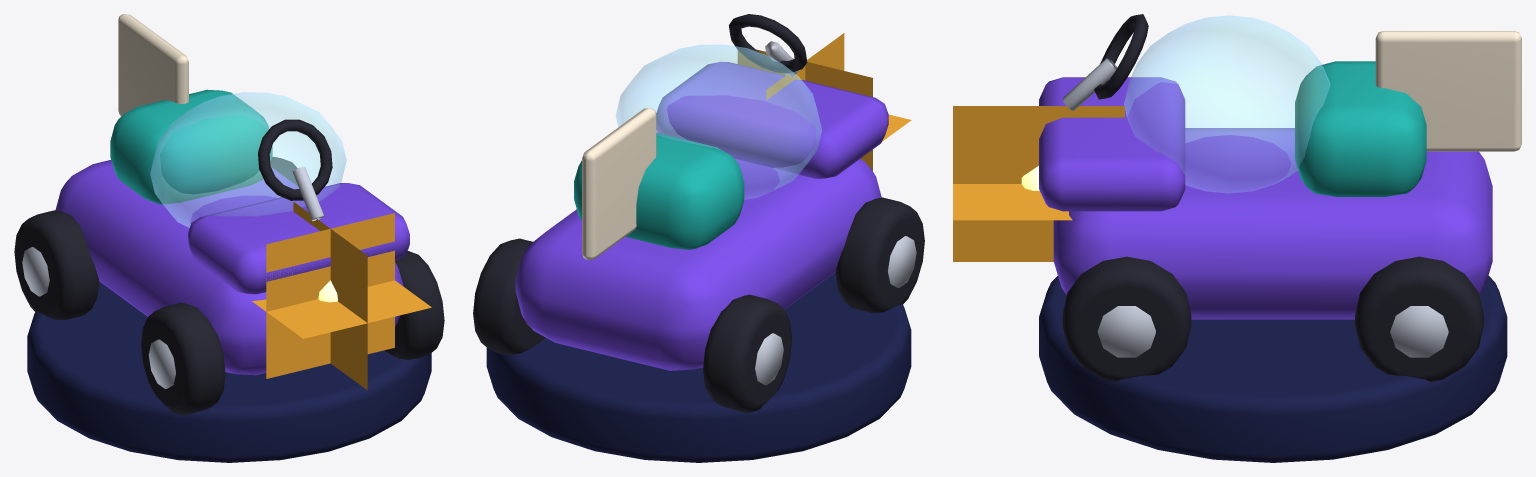
File: mall_kiddie_car.glb
3 views of the same model, side by side, from view 1: azimuth 30°, elevation 25°; view 2: azimuth 150°, elevation 25°; view 3: azimuth 270°, elevation 25° (orthographic). The views are drawn at different scales.
Visible parts, largest first — view 1: KiddieCar; view 2: KiddieCar; view 3: KiddieCar.
Part boxes in pixels (bbox=[...]): KiddieCar: bbox=[14, 14, 444, 462]; KiddieCar: bbox=[473, 14, 924, 462]; KiddieCar: bbox=[953, 14, 1521, 462].
Size of the model in its own units: 1.6 by 1.32 by 1.94.
